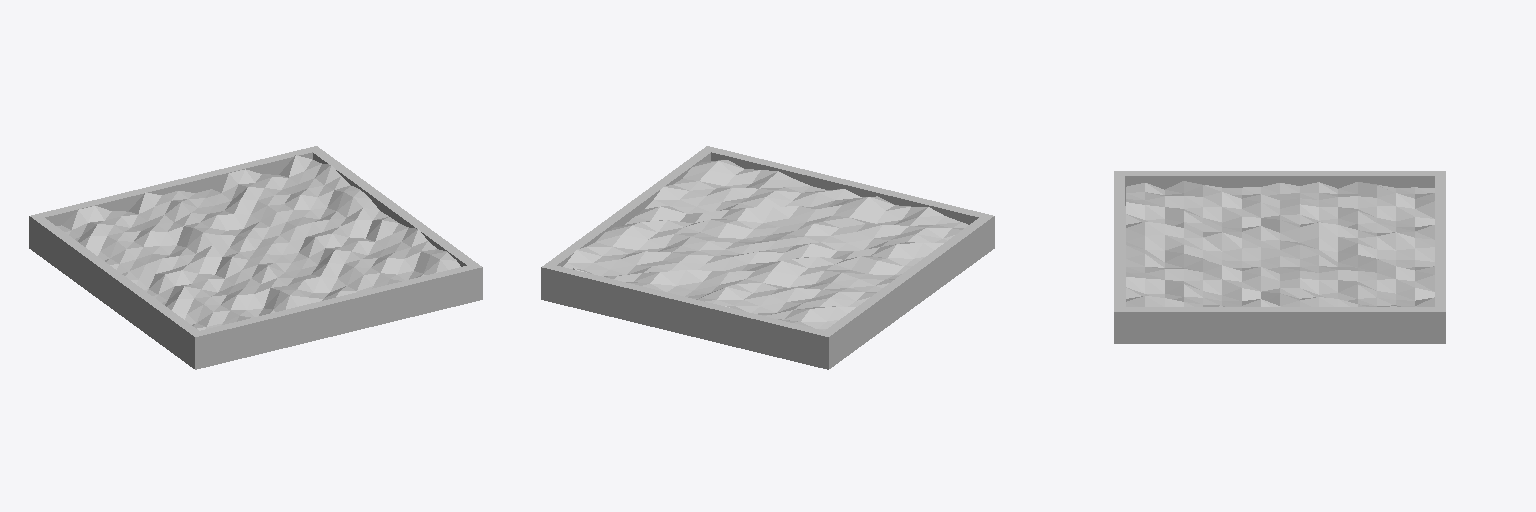
The model's file is MapAR5.obj.
3 renders of one model, left to right at view 1: azimuth 30°, elevation 25°; view 2: azimuth 150°, elevation 25°; view 3: azimuth 270°, elevation 25°, orthographic.
Visible parts, largest first — view 1: Cube.001_Cube.002; view 2: Cube.001_Cube.002; view 3: Cube.001_Cube.002.
Part boxes in pixels (left/top/right/bottom): Cube.001_Cube.002: left=29, top=146, right=482, bottom=369; Cube.001_Cube.002: left=541, top=146, right=994, bottom=369; Cube.001_Cube.002: left=1114, top=171, right=1445, bottom=343.
Bounding box in the file's own units: 1.23 × 0.149 × 1.23.